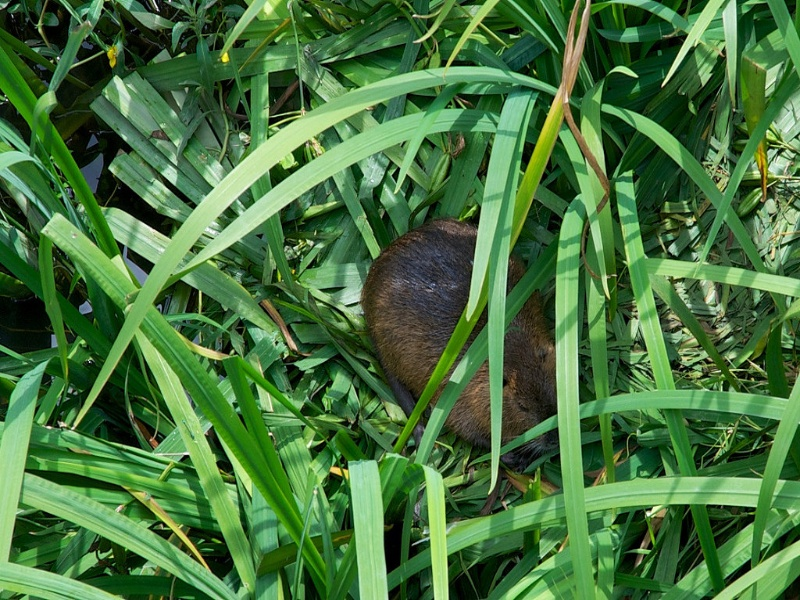minkish: (351, 212, 587, 470)
